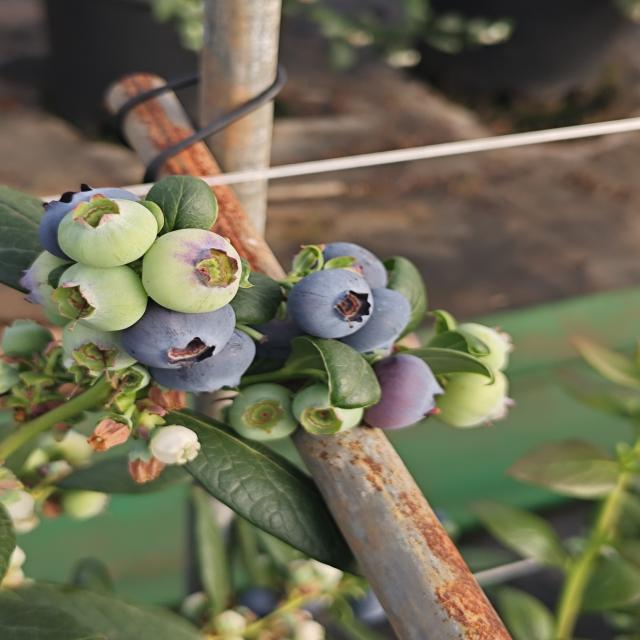ripe: (37, 177, 152, 264), (123, 306, 240, 360), (228, 304, 302, 384), (376, 347, 441, 435), (290, 266, 369, 334), (151, 343, 265, 389), (222, 563, 296, 623), (321, 231, 393, 291), (333, 566, 396, 620), (362, 290, 417, 347)
